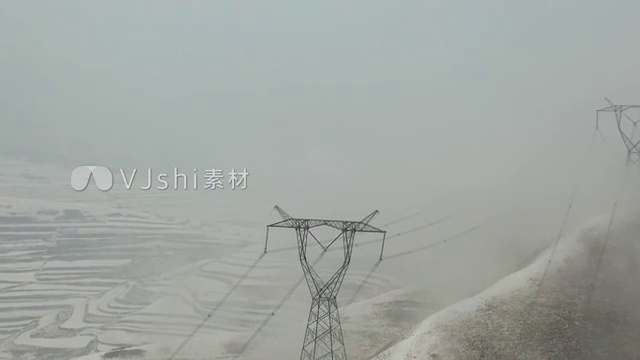tower_body: (261, 201, 395, 360)
tower_foot: (299, 331, 348, 360)
tower_head: (264, 203, 391, 298)
